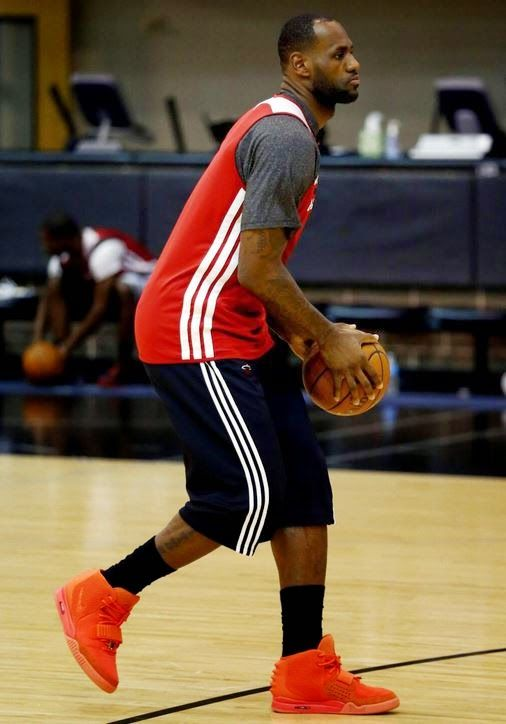Yeezy Red October: (53, 547, 143, 698), (266, 640, 412, 720)
